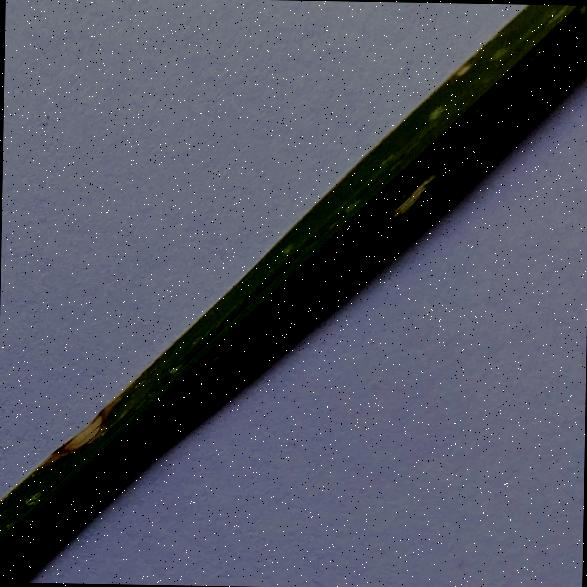Leaf_smut: (44, 390, 120, 458), (380, 154, 444, 223)
